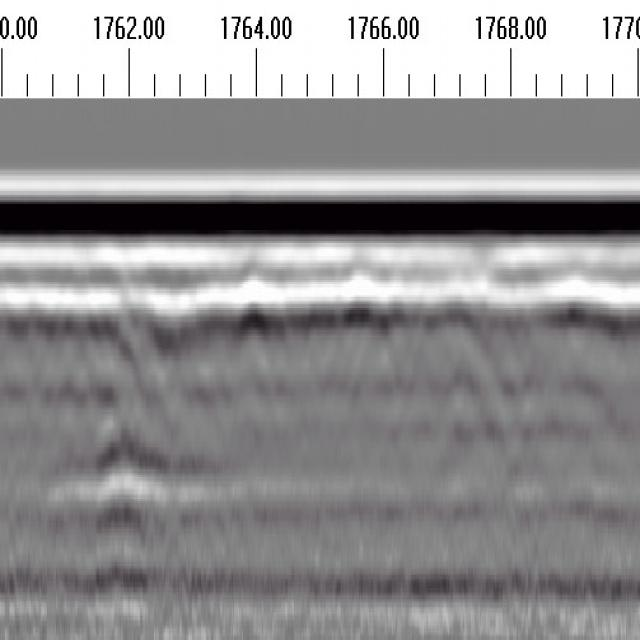loose: (88, 307, 162, 574)
